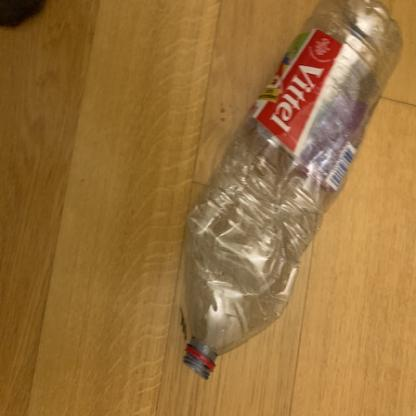trash: (177, 0, 408, 388)
